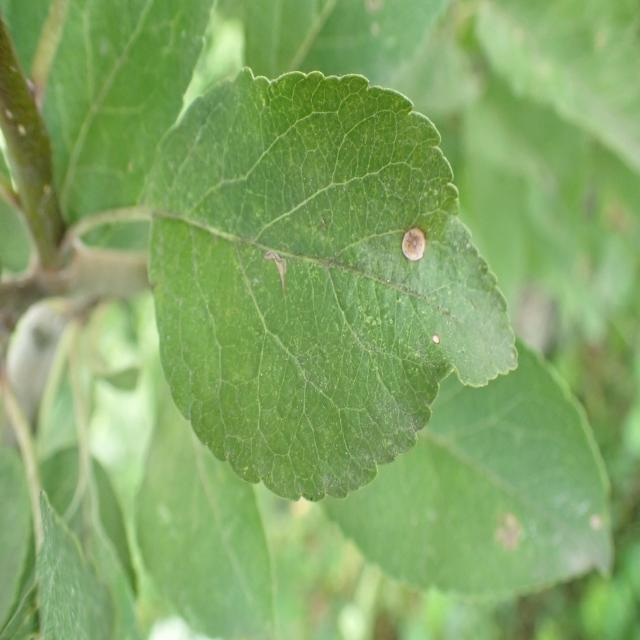Black Rot: (379, 201, 439, 291)
